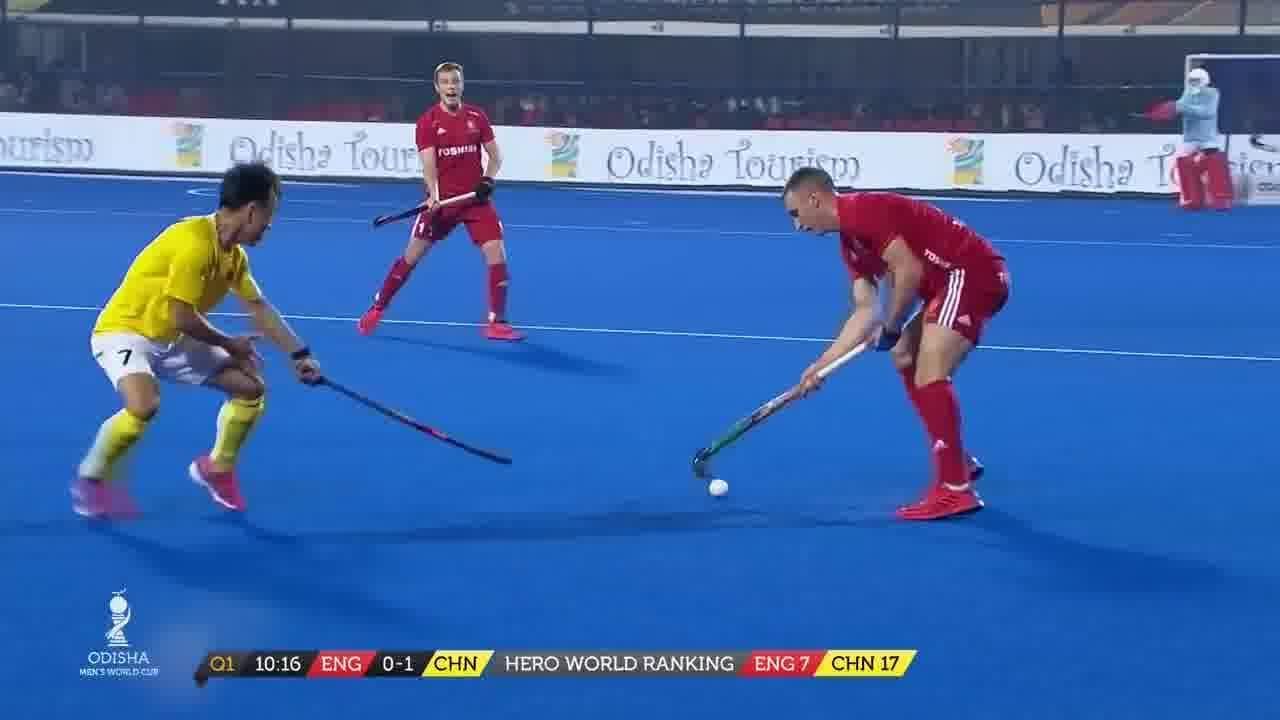ball: (700, 466, 746, 508)
